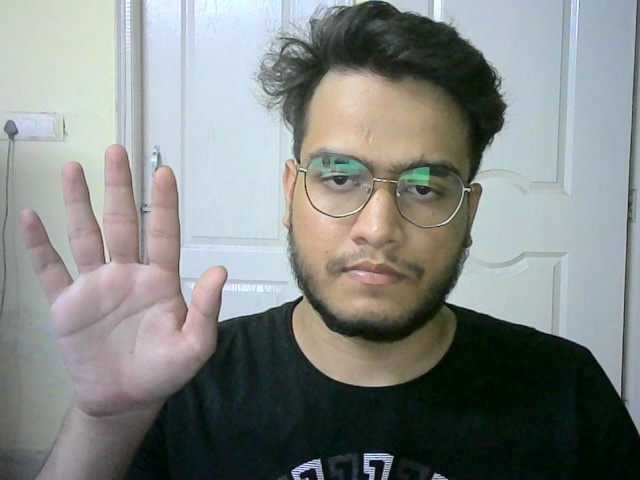Hello: (15, 143, 229, 397)
